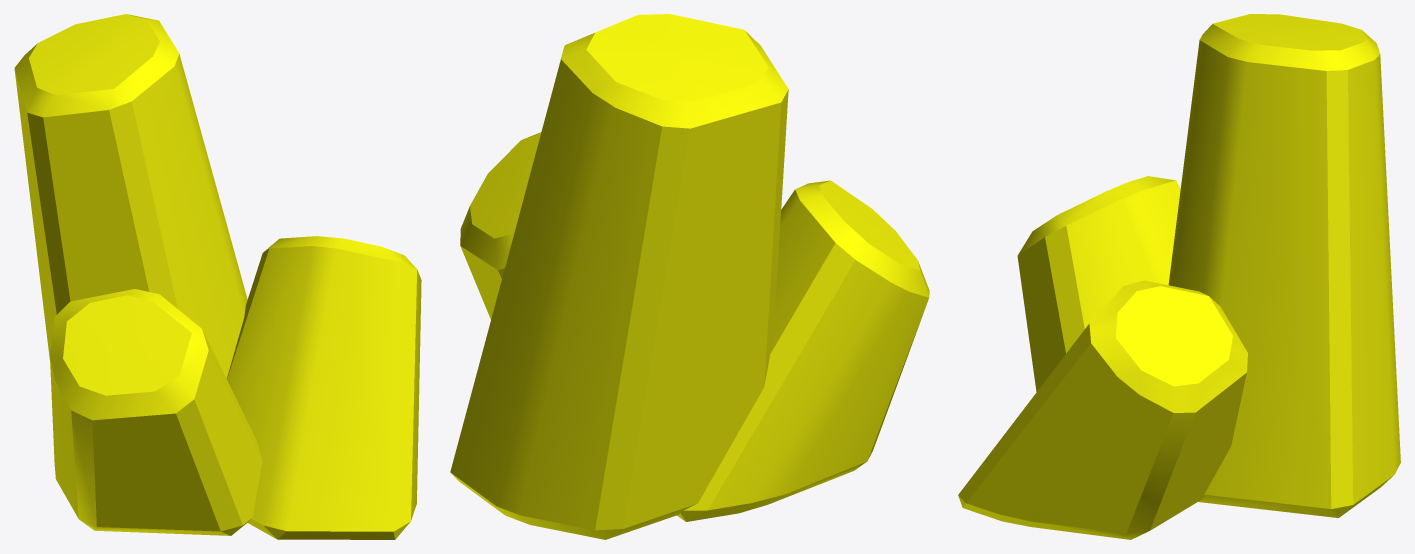
File: Crystal_Small.glb
3 renders of one model, left to right at view 1: azimuth 30°, elevation 25°; view 2: azimuth 150°, elevation 25°; view 3: azimuth 270°, elevation 25°, orthographic. The views are drawn at different scales.
Parts seen in each view (by area): view 1: Crystal_Small; view 2: Crystal_Small; view 3: Crystal_Small.
Boxes of the visible parts, x1,y1,x2,y2 form: Crystal_Small: [14, 14, 421, 539]; Crystal_Small: [450, 14, 929, 539]; Crystal_Small: [958, 14, 1400, 539].
Bounding box in the file's own units: 0.7645 × 0.8168 × 0.7817.
1 material, 1 textured.
